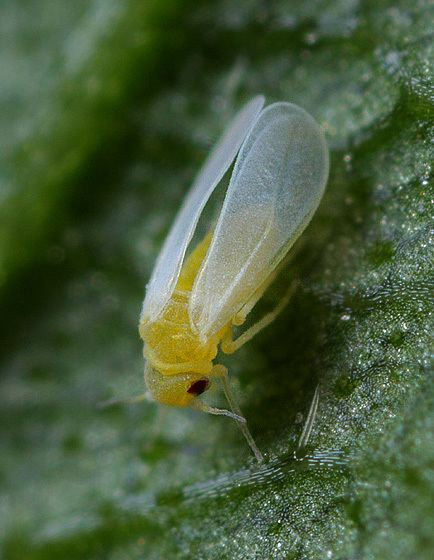Tobacco Whitefly: (145, 108, 328, 462)
